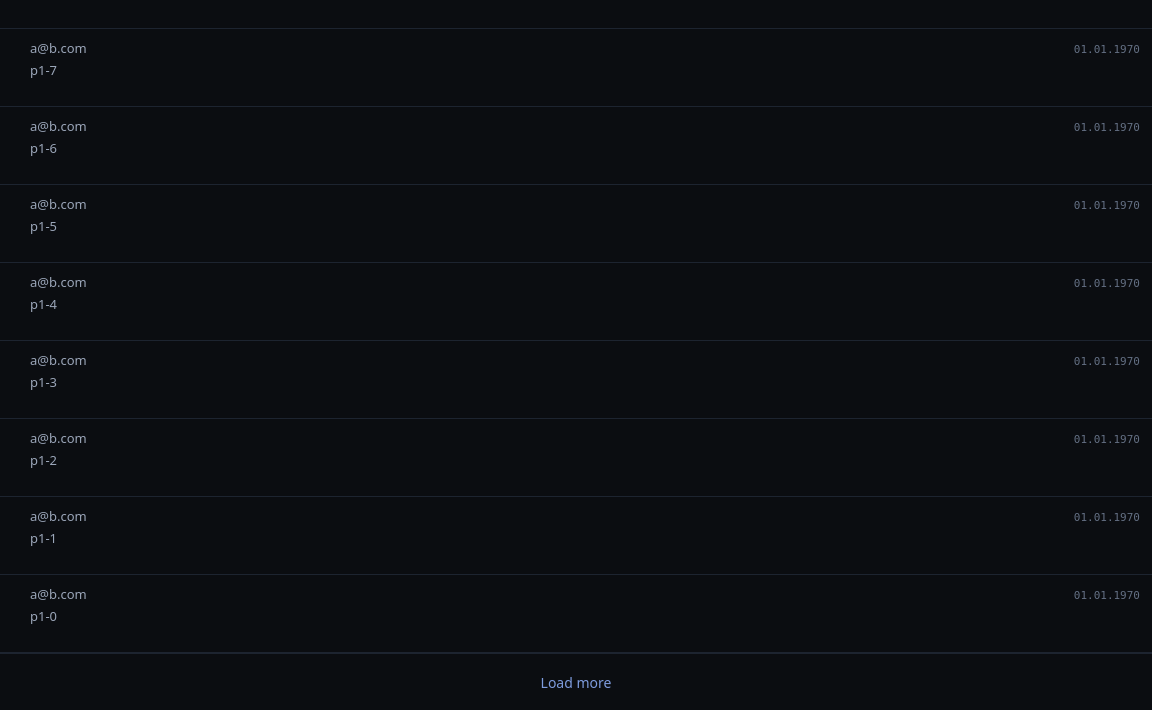
Scenario: ThreadList filter-switch generation guard › does not append a stale load-more page after the filter scope changes
(page scrolled)
Expected: the text "p1-0" is shown, [30, 606, 57, 624]
Click the button "Load more": (576, 683) [541, 673, 612, 693]
(page scrolled)
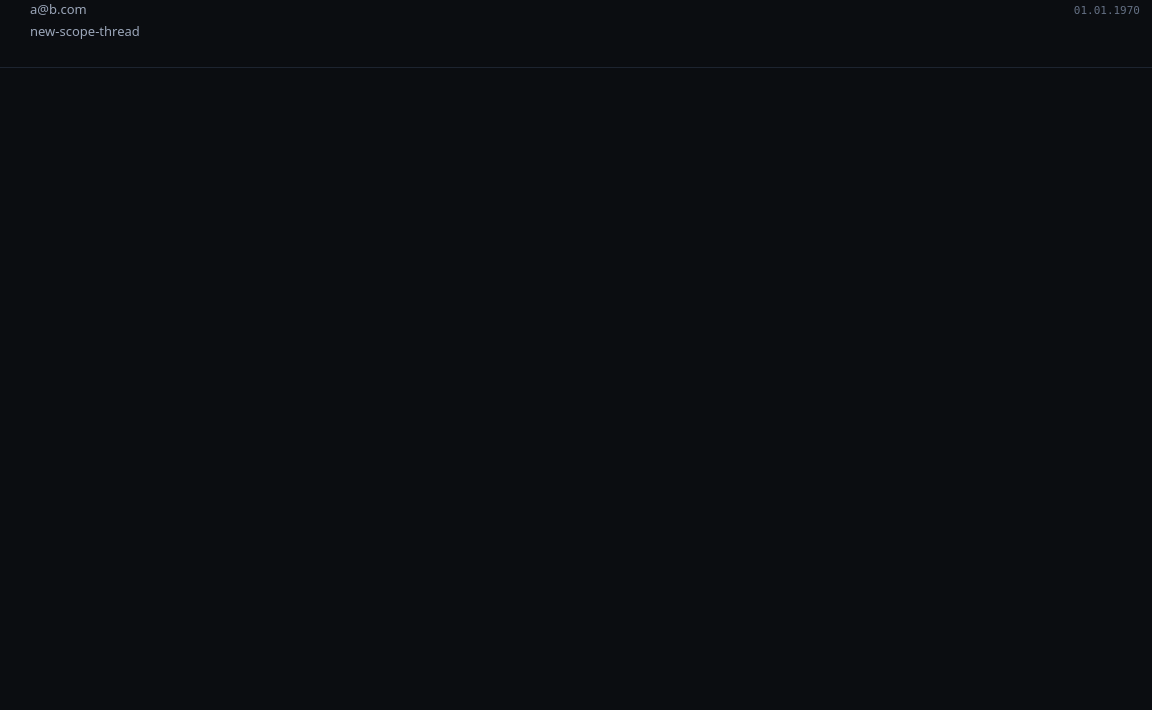
Result: the text "new-scope-thread" is shown at [30, 22, 140, 40]
